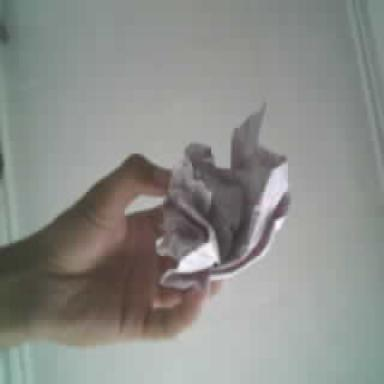paper: (157, 106, 287, 288)
